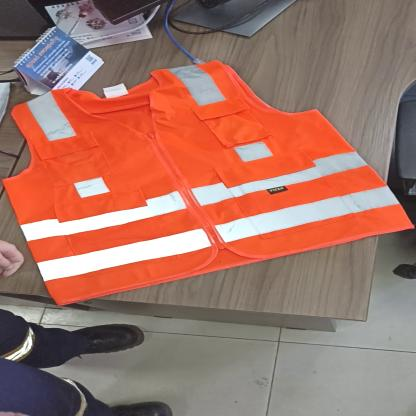colete: (0, 59, 416, 308)
